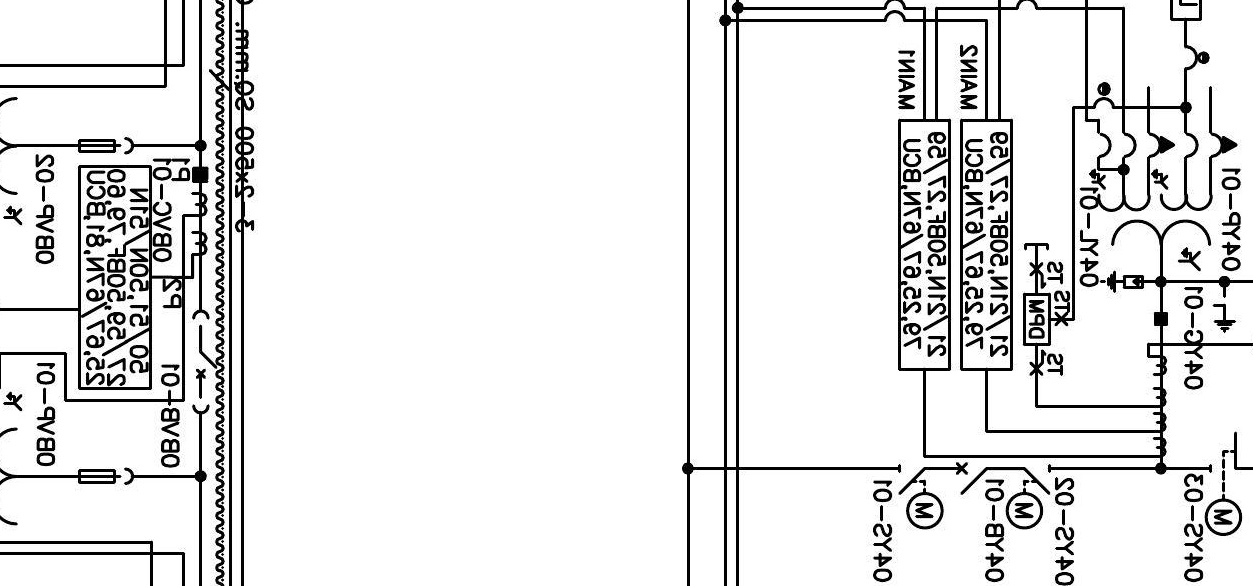115_1way_ds_w_motor: (1203, 431, 1242, 538), (1005, 464, 1052, 531), (897, 464, 944, 531)
115_breaker: (955, 462, 987, 495)
115_gs: (1212, 294, 1237, 335)
115_la: (1099, 270, 1144, 294)
115_vt_3p: (1088, 131, 1239, 273)
22_breaker: (192, 309, 217, 414)
DPM: (1022, 293, 1051, 347)
